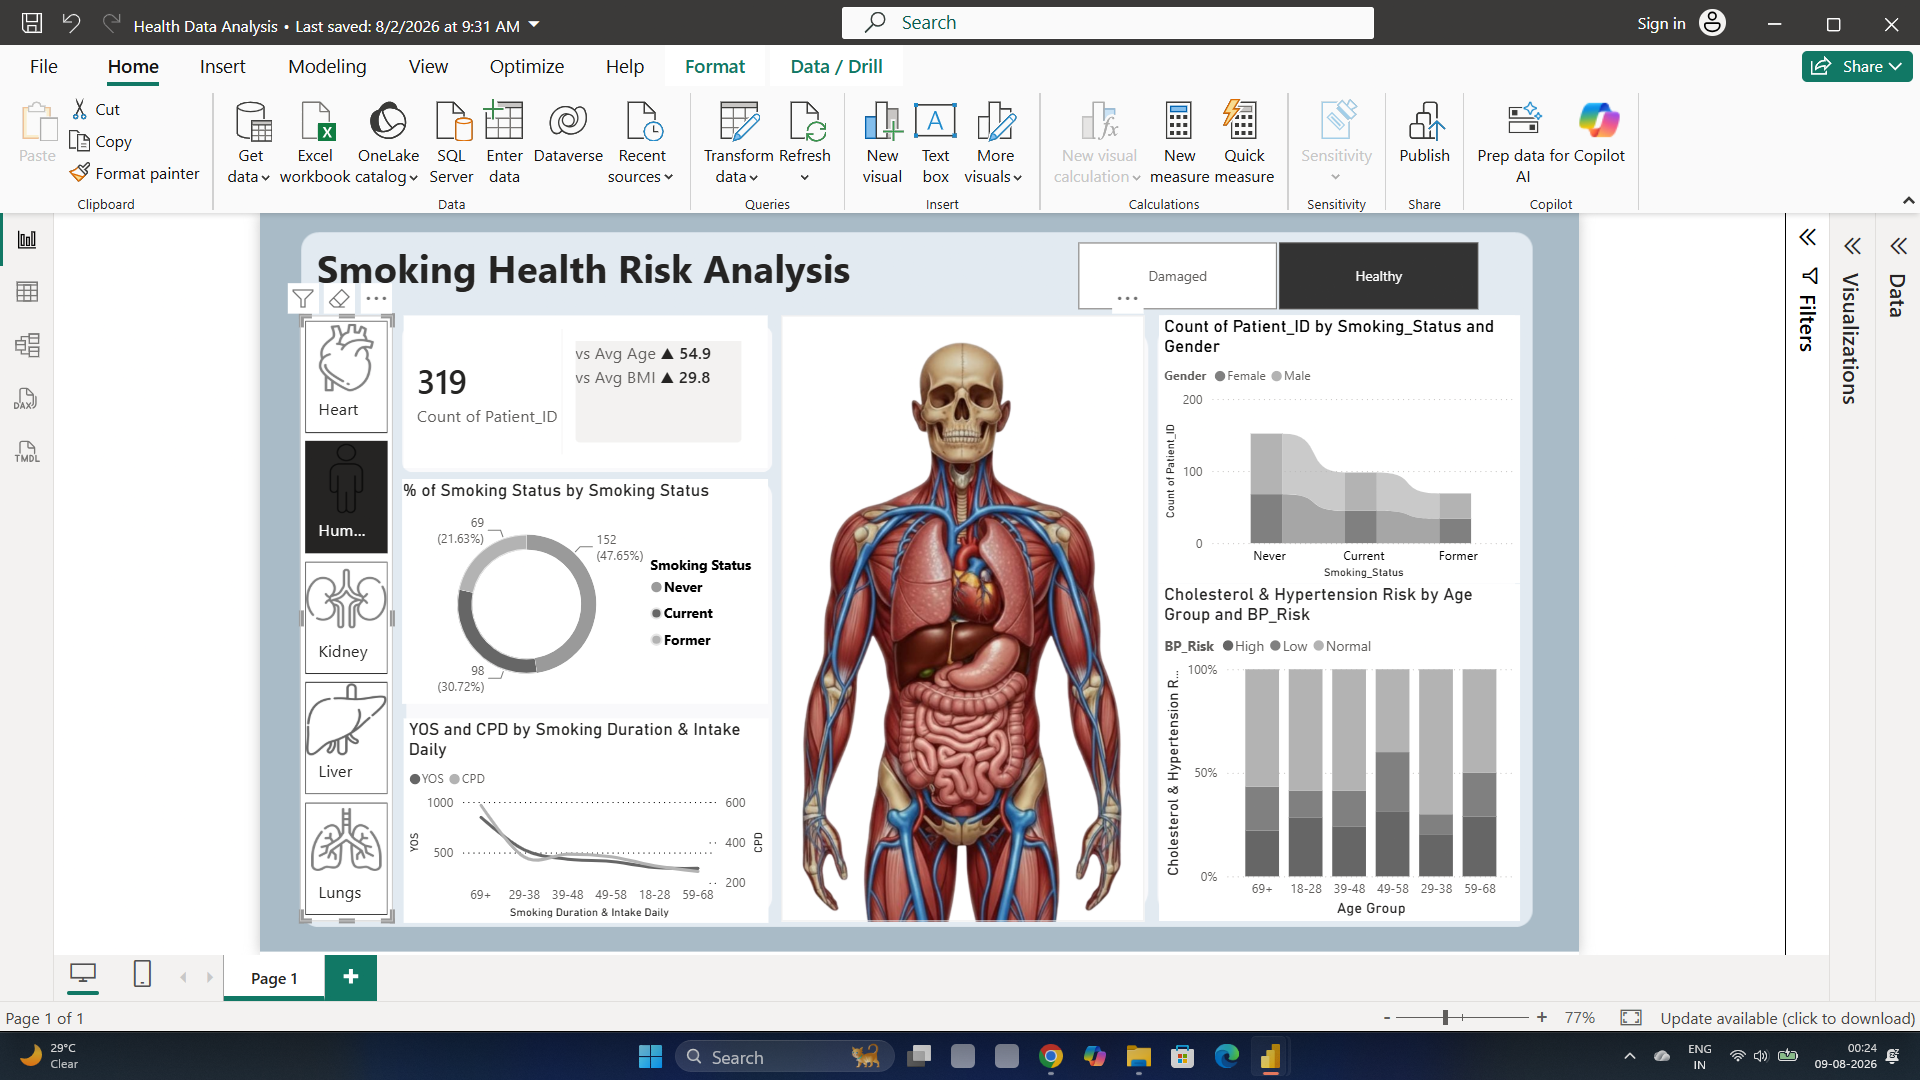

The page's visual inventory and layout, read from the dashboard file:
{"tool":"powerbi","page":{"name":"Page 1","canvas":[1280,720],"ordinal":0},"visuals":[{"type":"textbox","box":[50,21.7,568.3,60],"z":0},{"type":"cardVisual","fields":{"Data":["CountNonNull(health_dataset.Patient_ID)"]},"box":[140,100,353.3,148.3],"z":1000},{"type":"slicer","fields":{"Values":["health_dataset.Organ_Condition"]},"box":[768.3,21.7,438.3,78.3],"z":2000},{"type":"ribbonChart","fields":{"Series":["health_dataset.Gender"],"Category":["health_dataset.Smoking_Status"],"Y":["CountNonNull(health_dataset.Patient_ID)"]},"box":[873.3,100,350,260],"z":3000},{"type":"donutChart","fields":{"Category":["health_dataset.Smoking_Status"],"Y":["CountNonNull(health_dataset.Patient_ID)"]},"box":[138.3,258.3,355,218.3],"z":4000},{"type":"lineChart","fields":{"Category":["health_dataset.Age Group"],"Y":["Sum(health_dataset.Years_of_Smoking)"],"Y2":["Sum(health_dataset.Cigarettes_Per_Day)"]},"box":[140,490,354.3,198.6],"z":5000},{"type":"hundredPercentStackedColumnChart","fields":{"Y":["CountNonNull(health_dataset.Patient_ID)"],"Series":["health_dataset.BP_Risk"],"Category":["health_dataset.Age Group"]},"box":[873,360,350,327],"z":6000},{"type":"advancedSlicerVisual","fields":{"Values":["Organs.Organ"]},"box":[38.6,100,90,588.6],"z":7000},{"type":"image","box":[505.4,99.4,352.8,589],"z":8000}]}

Visuals, with their boxes on the page's 1280x720 design canvas (x1, y1, x2, y2). These are canvas units, not pixel positions in the 1920x1080 screenshot, which may show the page scaled, cropped or inside an application window:
textbox: crop(50, 22, 618, 82)
cardVisual - CountNonNull(health_dataset.Patient_ID): crop(140, 100, 493, 248)
slicer - health_dataset.Organ_Condition: crop(768, 22, 1207, 100)
ribbonChart - health_dataset.Gender x health_dataset.Smoking_Status: crop(873, 100, 1223, 360)
donutChart - health_dataset.Smoking_Status x CountNonNull(health_dataset.Patient_ID): crop(138, 258, 493, 477)
lineChart - health_dataset.Age Group x Sum(health_dataset.Years_of_Smoking): crop(140, 490, 494, 689)
hundredPercentStackedColumnChart - CountNonNull(health_dataset.Patient_ID) x health_dataset.BP_Risk: crop(873, 360, 1223, 687)
advancedSlicerVisual - Organs.Organ: crop(39, 100, 129, 689)
image: crop(505, 99, 858, 688)
